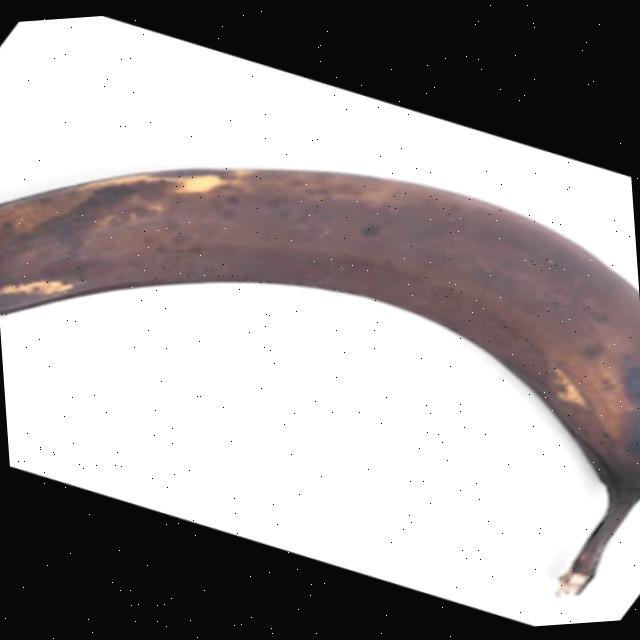Rotten: (0, 137, 640, 635)
